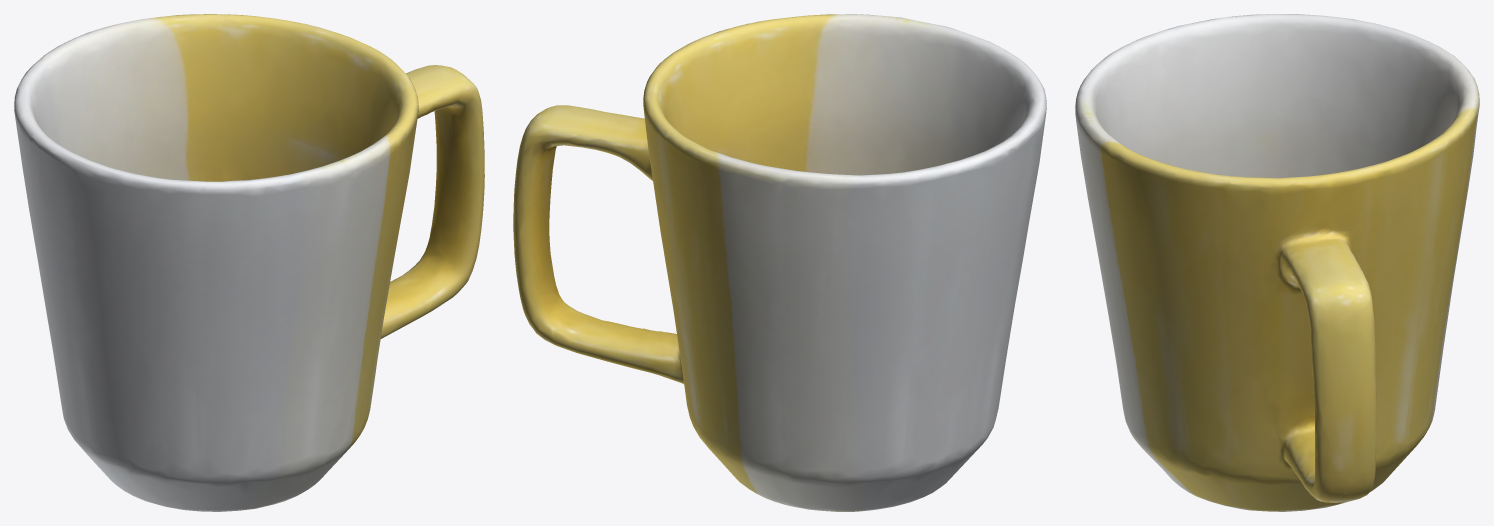
File: Room_Essentials_Mug_White_Yellow.glb
3 renders of one model, left to right at view 1: azimuth 30°, elevation 25°; view 2: azimuth 150°, elevation 25°; view 3: azimuth 270°, elevation 25°, orthographic.
Parts seen in each view (by area): view 1: model.obj; view 2: model.obj; view 3: model.obj.
Boxes of the visible parts, x1=… form: model.obj: x1=14, y1=14, x2=484, y2=511; model.obj: x1=513, y1=14, x2=1046, y2=511; model.obj: x1=1075, y1=14, x2=1479, y2=511.
Bounding box in the file's own units: 1 × 0.7659 × 0.7468.
Materials: 1 (1 with a texture image).
